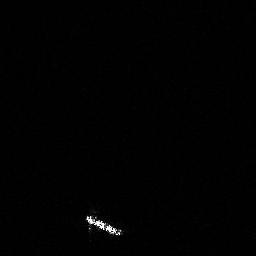ship: (82, 211, 124, 239)
